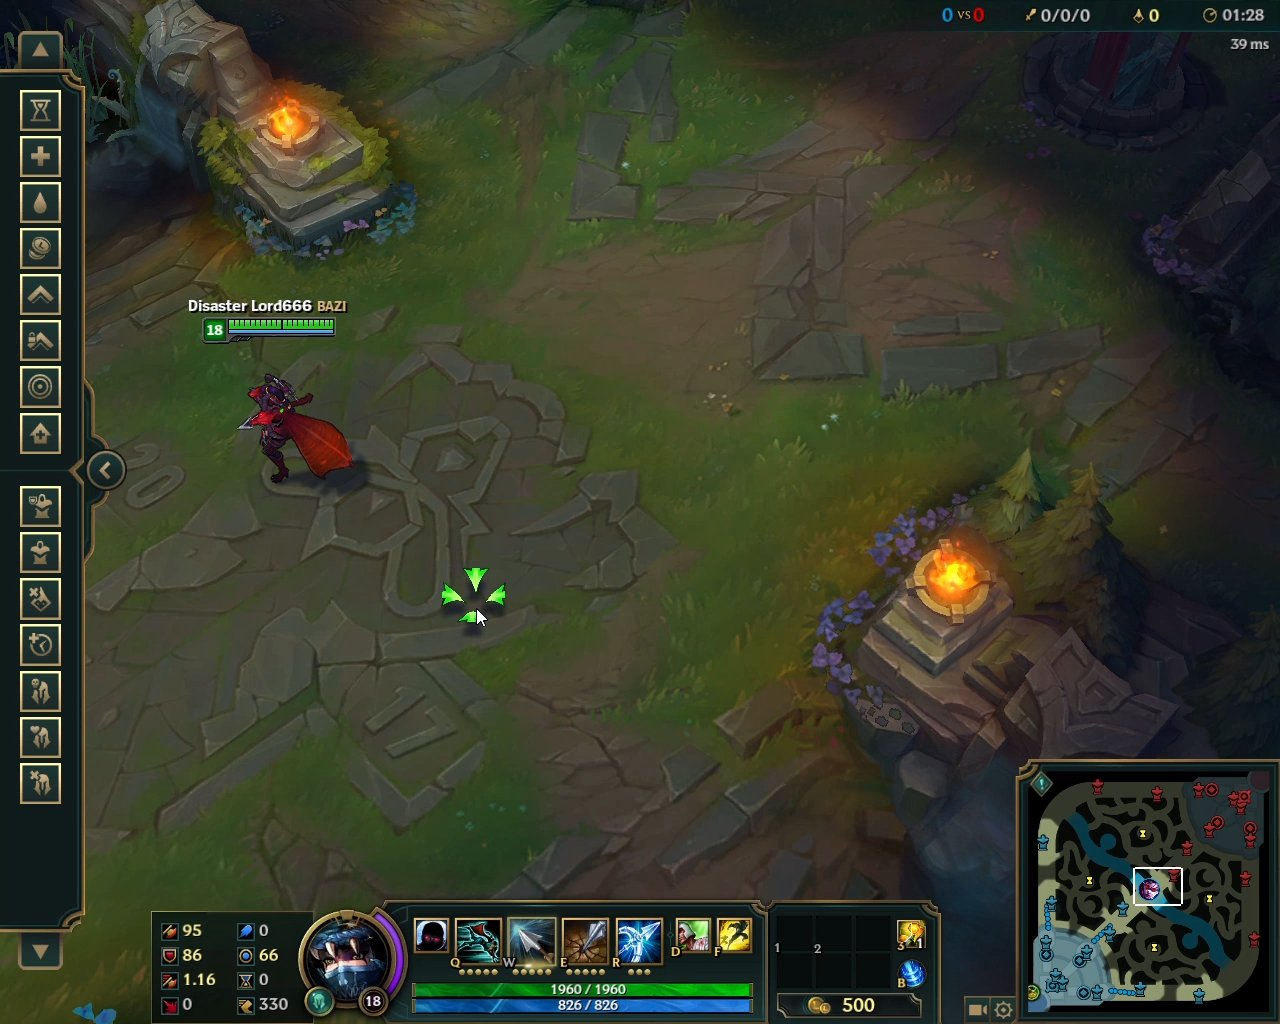Vayne: (233, 370, 359, 488)
